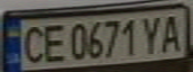0: (66, 20, 87, 61)
1: (118, 16, 142, 56)
6: (84, 18, 106, 60)
7: (103, 17, 124, 59)
A: (157, 11, 187, 53)
C: (18, 22, 48, 65)
E: (39, 21, 69, 64)
Y: (139, 12, 166, 55)
